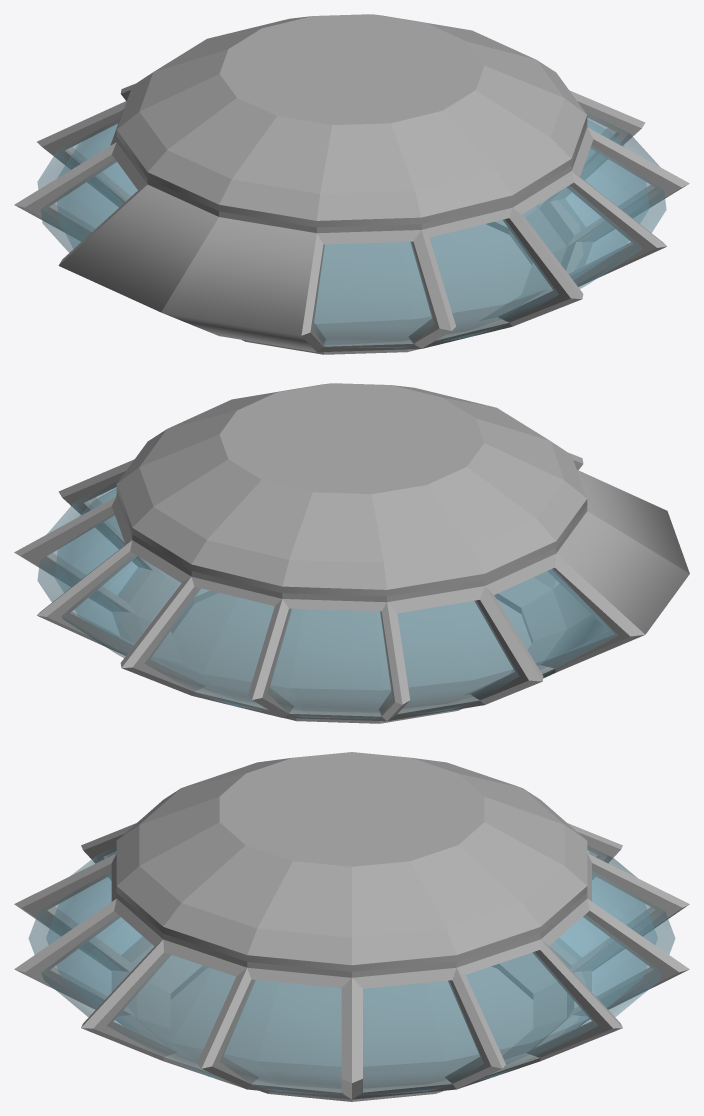
The picture shows the model from 3 angles, top to bottom: view 1: azimuth 30°, elevation 25°; view 2: azimuth 150°, elevation 25°; view 3: azimuth 270°, elevation 25°; orthographic projection. The views are drawn at different scales.
Visible parts, largest first — view 1: pasted__pCylinder4, pCylinder1; view 2: pasted__pCylinder4, pCylinder1; view 3: pasted__pCylinder4, pCylinder1.
Part boxes in pixels (x1,y1,x2,y2): pasted__pCylinder4: [14, 14, 689, 354]; pCylinder1: [37, 112, 666, 348]; pasted__pCylinder4: [14, 383, 689, 723]; pCylinder1: [37, 481, 617, 718]; pasted__pCylinder4: [14, 752, 689, 1101]; pCylinder1: [28, 846, 675, 1095].
Bounding box in the file's own units: 511 × 188 × 498.
